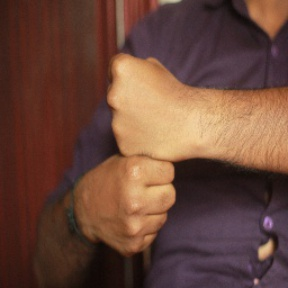G: (86, 49, 197, 258)
